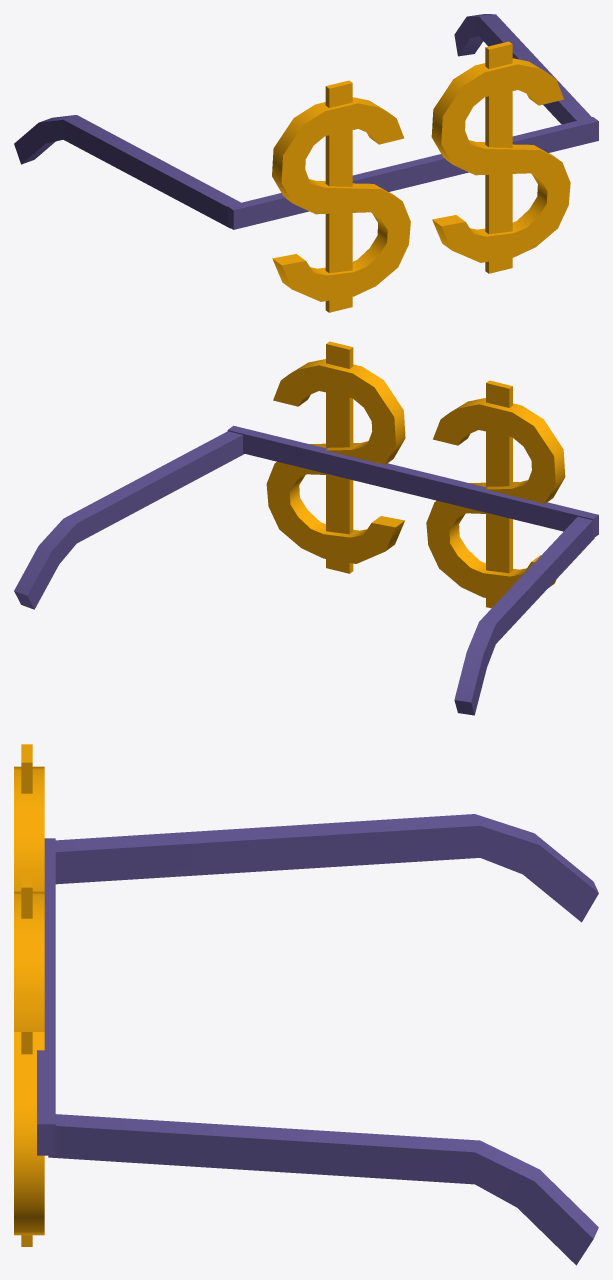
The model's file is Glasses_dollar.fbx.
3 renders of one model, top to bottom at view 1: azimuth 30°, elevation 25°; view 2: azimuth 150°, elevation 25°; view 3: azimuth 270°, elevation 25°, orthographic. The views are drawn at different scales.
Visible parts, largest first — view 1: Glasses_dollar.c, Glasses_stick_55, Glasses_stick_56; view 2: Glasses_dollar.c, Glasses_stick_56, Glasses_stick_55; view 3: Glasses_stick_56, Glasses_stick_55, Glasses_dollar.c.
Part boxes in pixels (<box>): Glasses_dollar.c: <box>227,41,598,312</box>; Glasses_stick_55: <box>14,115,240,228</box>; Glasses_stick_56: <box>454,14,591,124</box>; Glasses_dollar.c: <box>227,341,598,608</box>; Glasses_stick_56: <box>14,431,244,609</box>; Glasses_stick_55: <box>454,516,594,715</box>; Glasses_stick_56: <box>48,1114,598,1265</box>; Glasses_stick_55: <box>55,814,598,922</box>; Glasses_dollar.c: <box>14,744,55,1246</box>.
Bounding box in the file's own units: 0.6625 × 0.3103 × 0.458.
